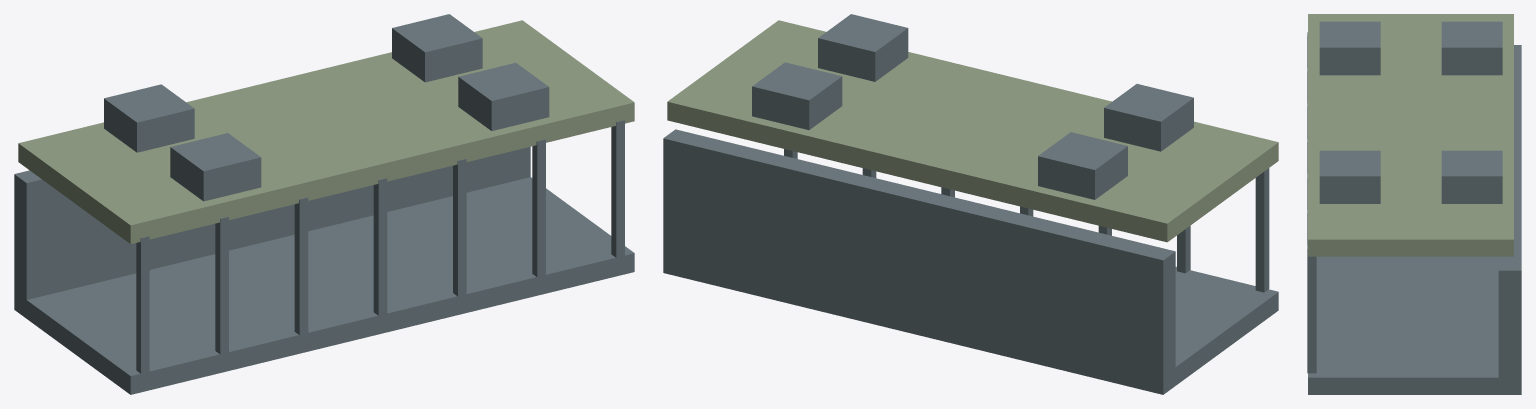
The model's file is OverturnedBusShell.glb.
3 views of the same model, side by side, from view 1: azimuth 30°, elevation 25°; view 2: azimuth 150°, elevation 25°; view 3: azimuth 270°, elevation 25° (orthographic). The views are drawn at different scales.
Visible parts, largest first — view 1: overturned-bus-shell; view 2: overturned-bus-shell; view 3: overturned-bus-shell.
Part boxes in pixels (x1,y1,x2,y2): overturned-bus-shell: [14, 14, 634, 394]; overturned-bus-shell: [663, 14, 1278, 394]; overturned-bus-shell: [1307, 14, 1521, 394].
Bounding box in the file's own units: 7 × 2.65 × 2.81.
